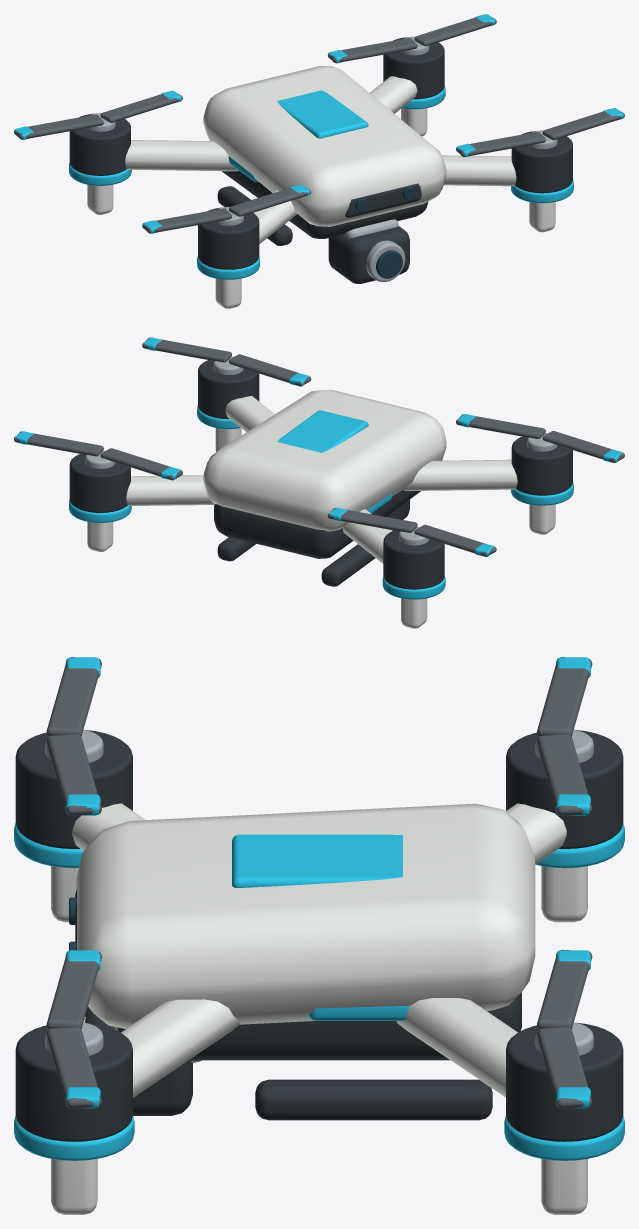
Rendered from d03-cyan-3DvuyjMA.glb.
3 renders of one model, top to bottom at view 1: azimuth 30°, elevation 25°; view 2: azimuth 150°, elevation 25°; view 3: azimuth 270°, elevation 25°, orthographic. The views are drawn at different scales.
Parts seen in each view (by area): view 1: Upper shell, Arm 3, Motor cap 1, Motor cap 2, Motor cap 3, Top color inlay, Gimbal camera housing, Motor cap 4, Arm 2, Lower chassis, Arm 4, Nose sensors (+21 smaller); view 2: Upper shell, Lower chassis, Arm 1, Motor cap 3, Motor cap 4, Motor cap 1, Arm 4, Motor cap 2, Top color inlay, Landing skid -1, Arm 2, Arm 3 (+17 smaller); view 3: Upper shell, Landing skid 1, Motor cap 2, Motor cap 4, Lower chassis, Top color inlay, Motor cap 1, Motor cap 3, Arm 4, Arm 2, Blade 1 1, Blade 3 1 (+18 smaller).
Part boxes in pixels (left/top/right/bottom): Upper shell: left=203, top=66, right=446, bottom=226; Arm 3: left=125, top=140, right=238, bottom=171; Motor cap 1: left=198, top=207, right=259, bottom=269; Motor cap 2: left=511, top=131, right=572, bottom=193; Motor cap 3: left=69, top=113, right=130, bottom=175; Top color inlay: left=277, top=90, right=368, bottom=138; Gimbal camera housing: left=328, top=226, right=409, bottom=283; Motor cap 4: left=383, top=37, right=444, bottom=99; Arm 2: left=442, top=155, right=516, bottom=186; Lower chassis: left=222, top=170, right=427, bottom=238; Arm 4: left=370, top=76, right=417, bottom=113; Nose sensors: left=345, top=183, right=421, bottom=217; Upper shell: left=203, top=389, right=446, bottom=531; Lower chassis: left=214, top=490, right=420, bottom=558; Arm 1: left=403, top=459, right=517, bottom=490; Motor cap 3: left=383, top=530, right=444, bottom=589; Motor cap 4: left=69, top=454, right=130, bottom=512; Motor cap 1: left=511, top=436, right=572, bottom=495; Arm 4: left=126, top=475, right=214, bottom=505; Motor cap 2: left=198, top=360, right=259, bottom=418; Top color inlay: left=277, top=410, right=368, bottom=452; Landing skid -1: left=321, top=530, right=393, bottom=586; Arm 2: left=225, top=396, right=274, bottom=431; Arm 3: left=342, top=509, right=392, bottom=563; Upper shell: left=76, top=803, right=535, bottom=1028; Landing skid 1: left=255, top=1079, right=492, bottom=1120; Motor cap 2: left=15, top=1022, right=132, bottom=1141; Motor cap 4: left=506, top=1022, right=623, bottom=1141; Lower chassis: left=117, top=992, right=521, bottom=1060; Top color inlay: left=232, top=834, right=402, bottom=887; Motor cap 1: left=15, top=729, right=132, bottom=848; Motor cap 3: left=506, top=729, right=623, bottom=848; Arm 4: left=396, top=998, right=517, bottom=1097; Arm 2: left=121, top=999, right=240, bottom=1097; Blade 1 1: left=46, top=734, right=101, bottom=815; Blade 3 1: left=537, top=734, right=592, bottom=815.
Size of the model in its own units: 2.7 by 0.6883 by 1.57.
